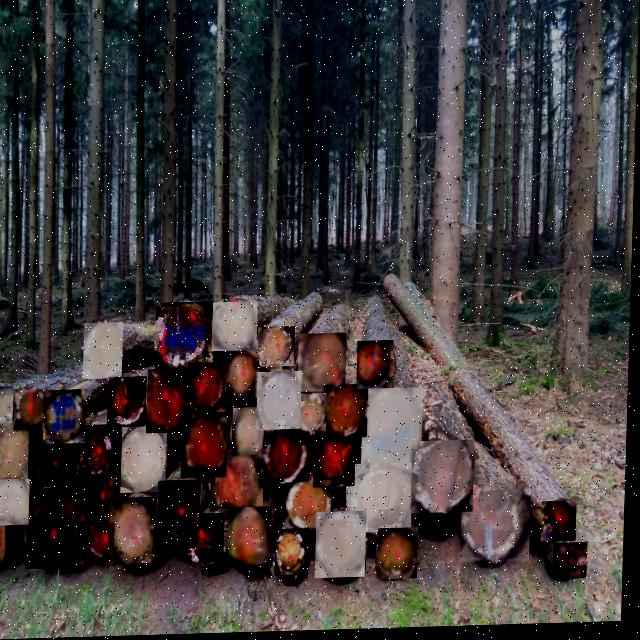wood-log: (464, 487, 534, 566), (29, 488, 95, 569), (364, 390, 426, 473), (348, 465, 416, 536), (414, 443, 477, 517), (158, 303, 217, 370), (319, 513, 370, 580), (213, 453, 267, 513), (112, 498, 160, 565), (123, 426, 170, 494), (149, 369, 197, 434), (300, 335, 349, 394), (184, 418, 230, 479), (266, 426, 313, 485), (259, 373, 304, 432), (232, 509, 275, 570), (326, 386, 371, 440), (160, 481, 204, 536), (288, 482, 335, 533), (46, 390, 89, 445), (316, 435, 359, 489), (214, 303, 260, 353), (85, 323, 125, 380), (84, 472, 128, 522), (80, 425, 124, 475), (380, 530, 421, 582), (189, 363, 229, 414), (110, 377, 149, 428), (228, 351, 267, 400), (37, 439, 76, 488), (0, 423, 32, 481), (192, 514, 229, 564), (359, 343, 396, 391), (234, 409, 269, 457), (259, 328, 297, 371), (278, 530, 312, 577), (0, 479, 33, 526), (16, 390, 51, 433), (544, 504, 580, 545), (297, 396, 330, 436), (556, 546, 591, 583), (90, 523, 118, 561), (0, 386, 16, 424), (0, 517, 9, 564)
